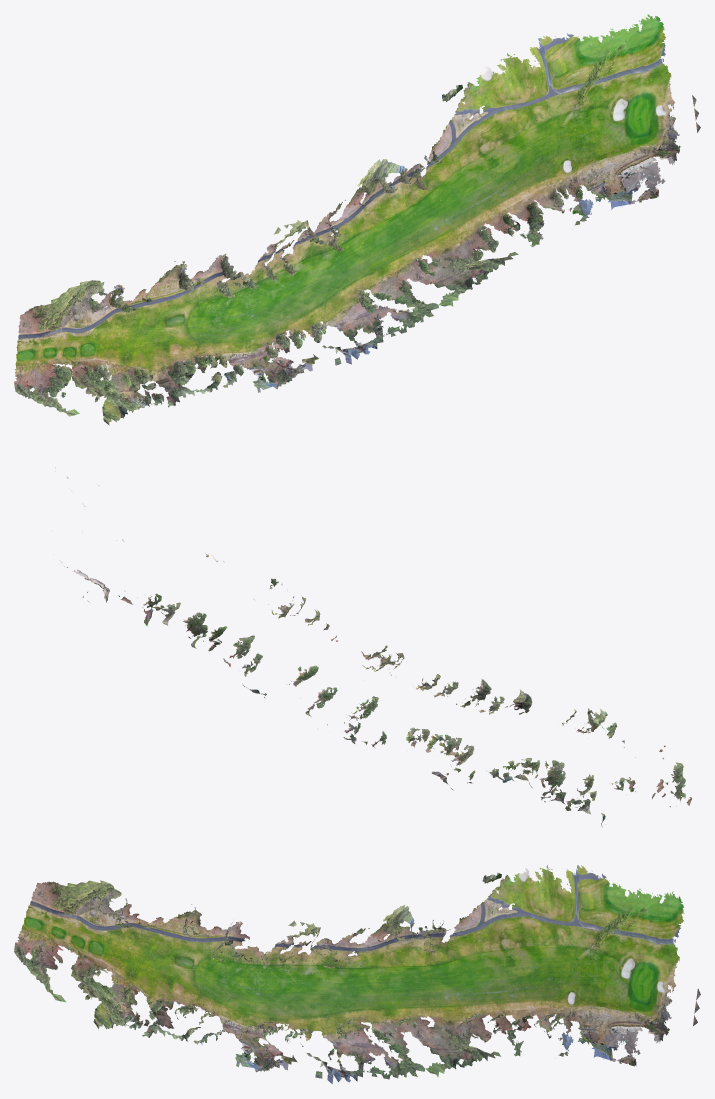
The picture shows the model from 3 angles, top to bottom: view 1: azimuth 30°, elevation 25°; view 2: azimuth 150°, elevation 25°; view 3: azimuth 330°, elevation 25°; orthographic projection.
Bounding box in the file's own units: 504 × 183 × 52.53.
24 materials, 24 textured.
